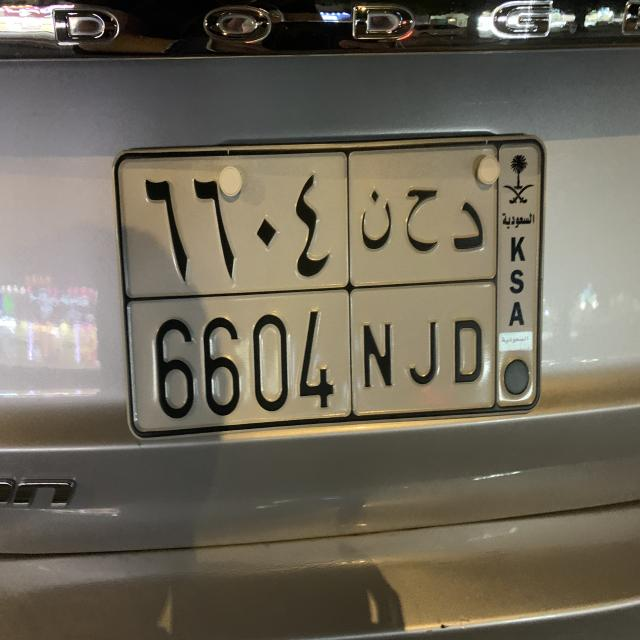license_plate: (107, 130, 548, 448)
